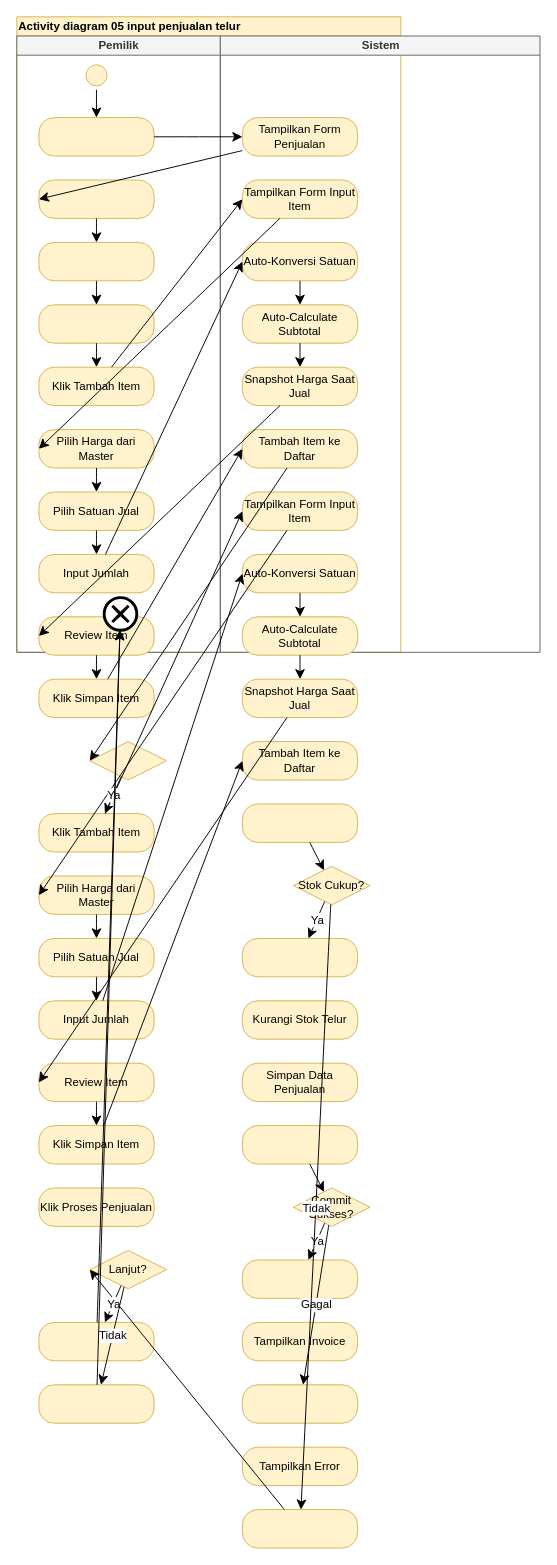
The diagram is 557 pixels wide and 1565 high, and some of its shapes have lost their labels. The shapes that lost their labels are listed below. From the top down, each one's centre as x and y in pixels, then its label:
pixel 96 136: Klik Tambah Penjualan
pixel 96 198: Input Tanggal Jual
pixel 96 261: Input Jam Jual
pixel 96 323: Input Nama Pembeli
pixel 128 760: Tambah Item Lagi?
pixel 299 822: Validasi Stok Total
pixel 299 957: Start Database Transaction
pixel 299 1144: Simpan Semua Detail Items
pixel 299 1278: Pesan Sukses
pixel 96 1341: Kurangi Jumlah Item
pixel 96 1403: Batal Penjualan
pixel 299 1403: Rollback Transaksi
pixel 299 1528: Tampilkan Warning "Stok Tidak Cukup"
